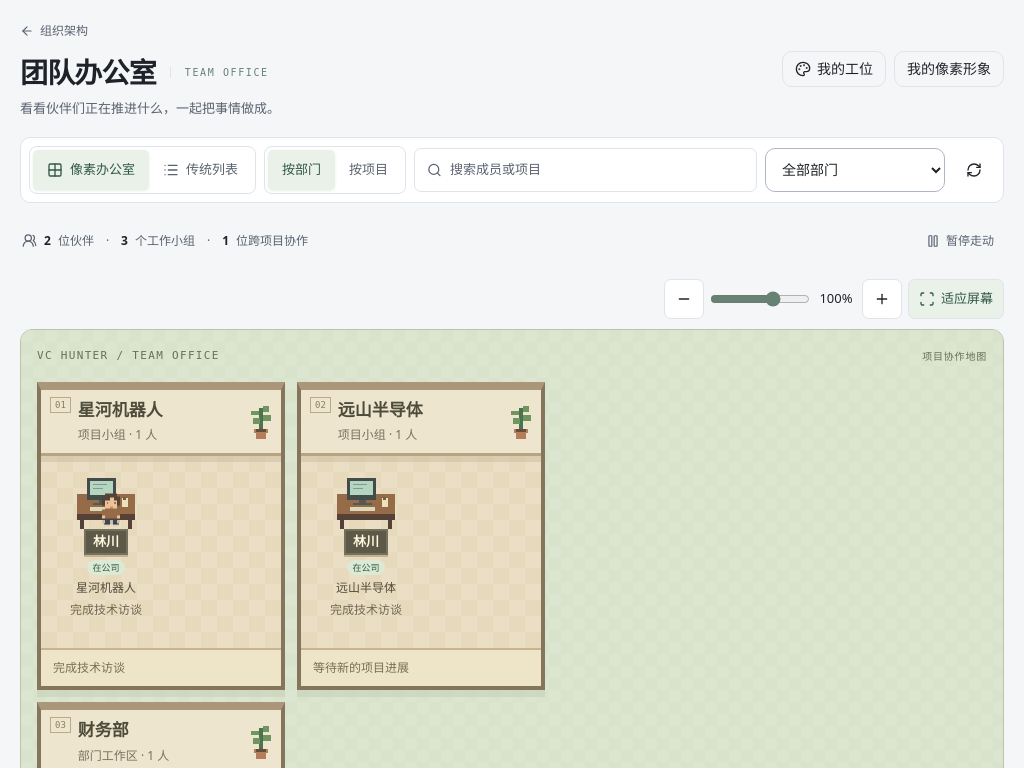
Test: team office › lets the signed-in member choose their displayed project, description and presence
Step 1. Click the button "我的工位" → [834, 69], box [782,51,886,87]
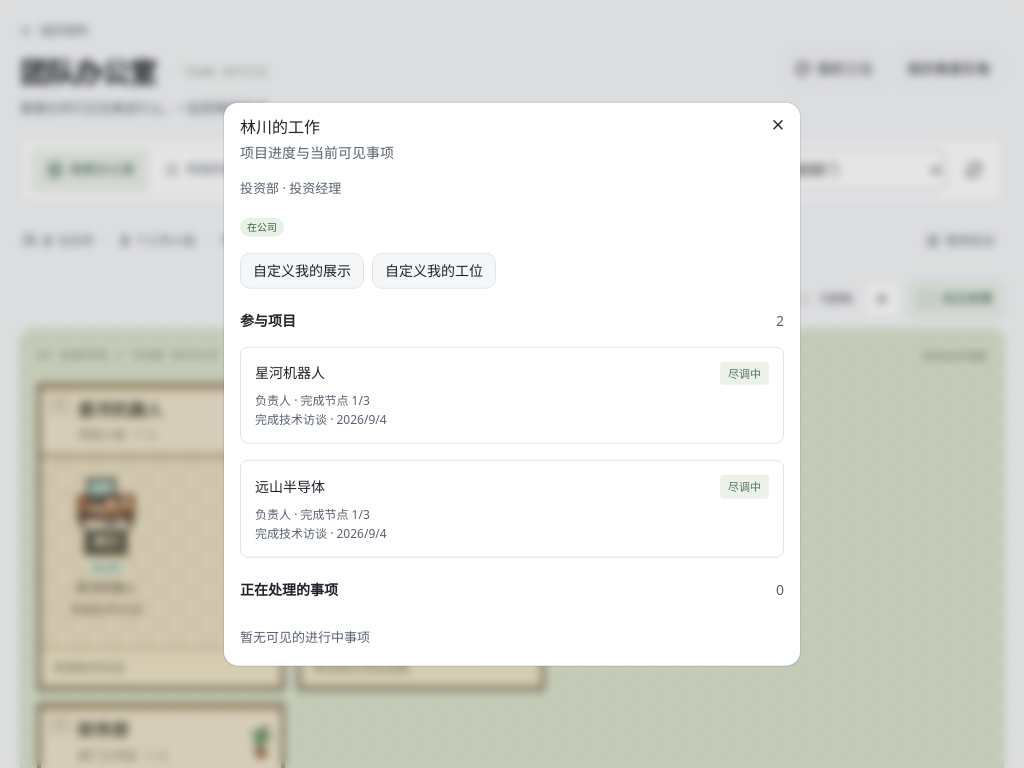
Step 2. Click the button "自定义我的展示" → [302, 270], box [240,252,364,288]
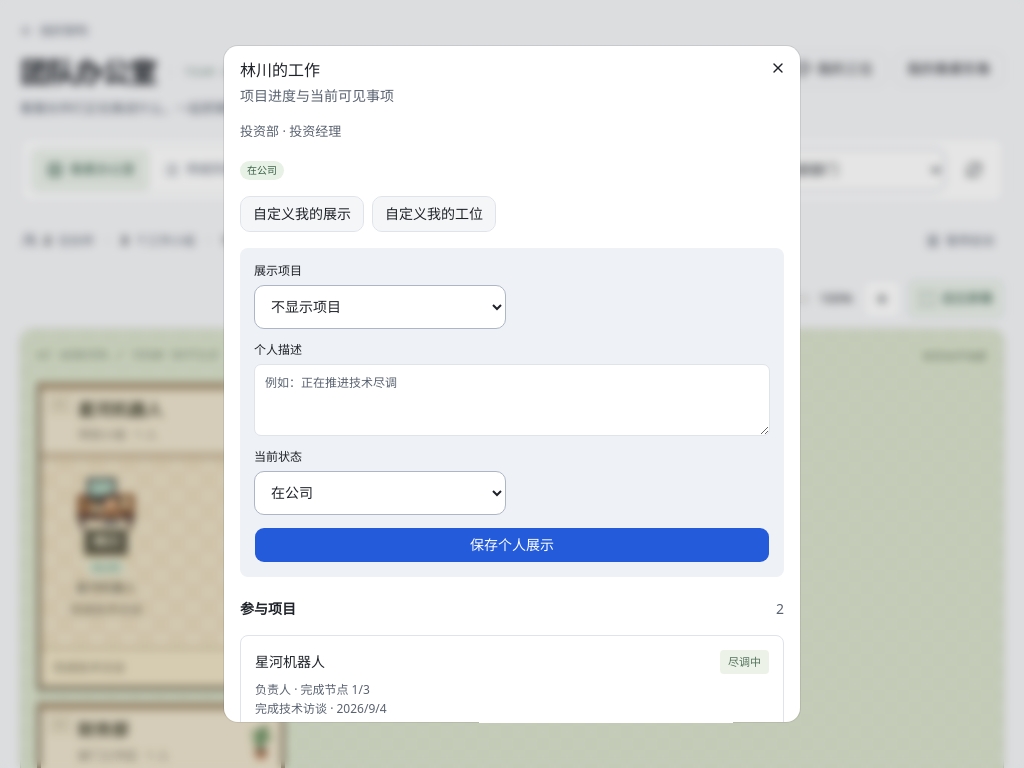
Step 3. Select "远山半导体" in the dropdown named "办公室展示项目" → [380, 307], box [254,285,506,329]
Step 4. Type "拜访创始团队" into the text box named "办公室个人描述" → [512, 400], box [254,364,770,436]
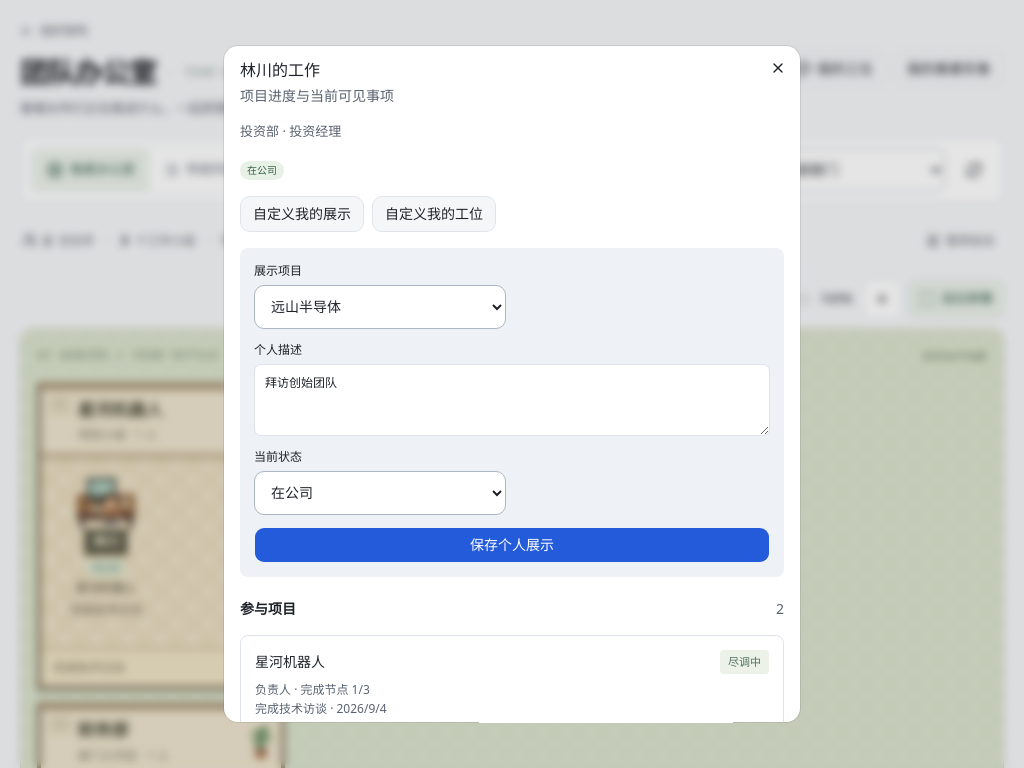
Step 5. Select "自定义" in the dropdown named "办公室状态" → [380, 493], box [254,471,506,515]
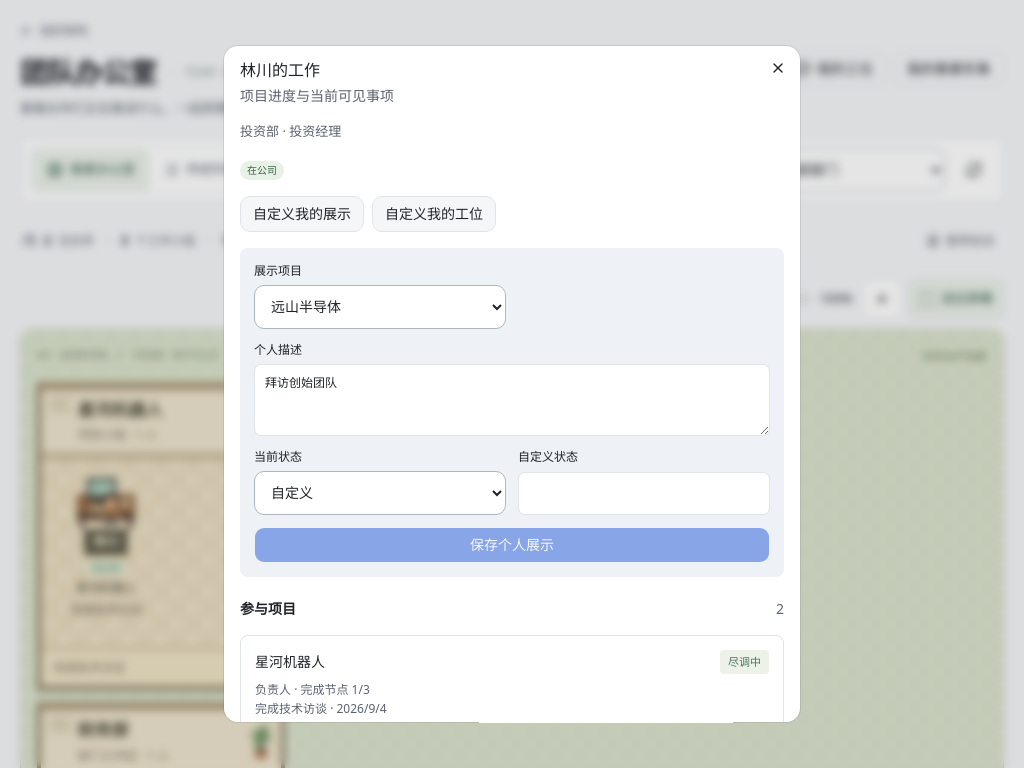
Step 6. Type "客户现场" into the field named "自定义办公室状态" → [644, 494], box [518,472,770,515]
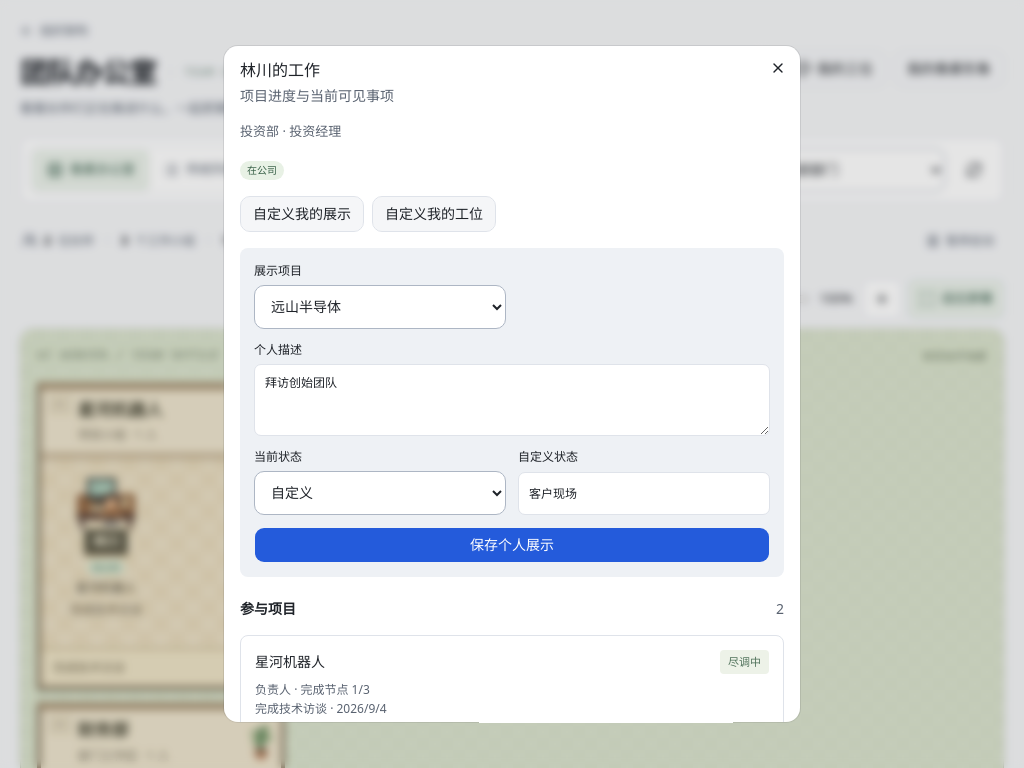
Step 7. Click the button "保存个人展示" → [512, 545], box [254,527,770,563]
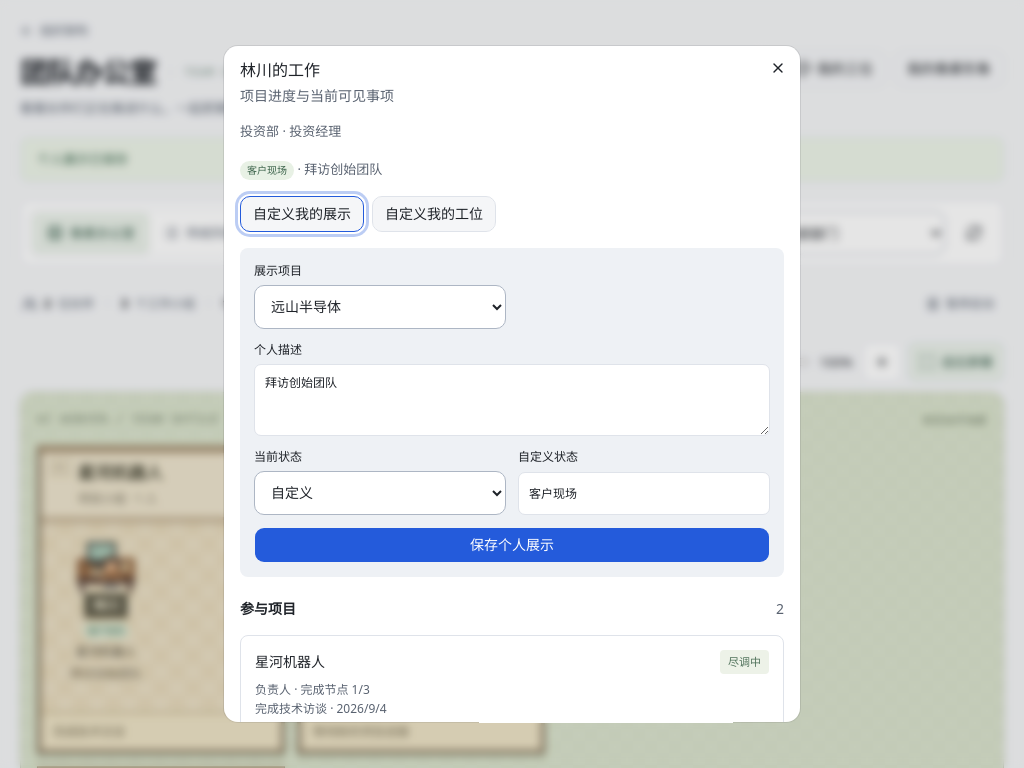
Check: the text "个人展示已保存" is shown, box [20,137,1004,182]
